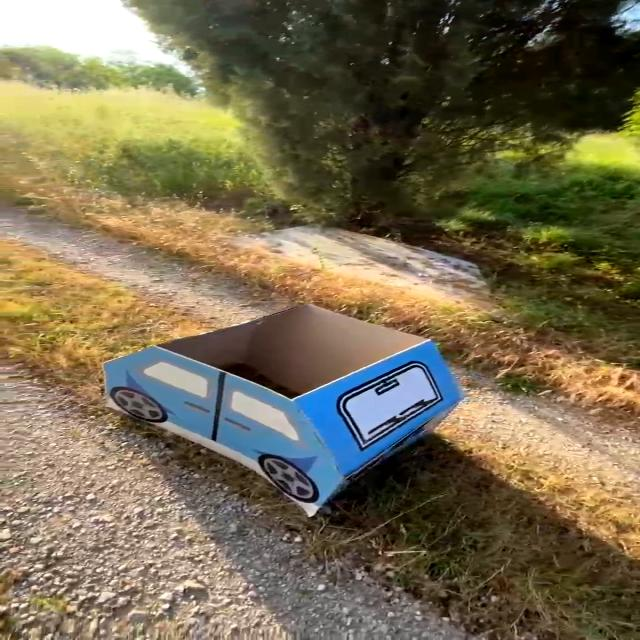blue_car: (84, 292, 489, 511)
